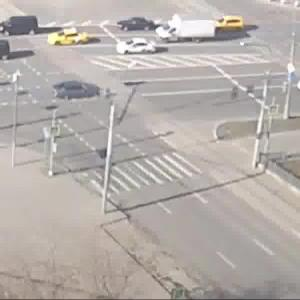car: (161, 17, 218, 44), (118, 41, 171, 60), (2, 15, 39, 39), (49, 27, 87, 47), (215, 14, 243, 33), (120, 15, 153, 30), (156, 26, 179, 42)
